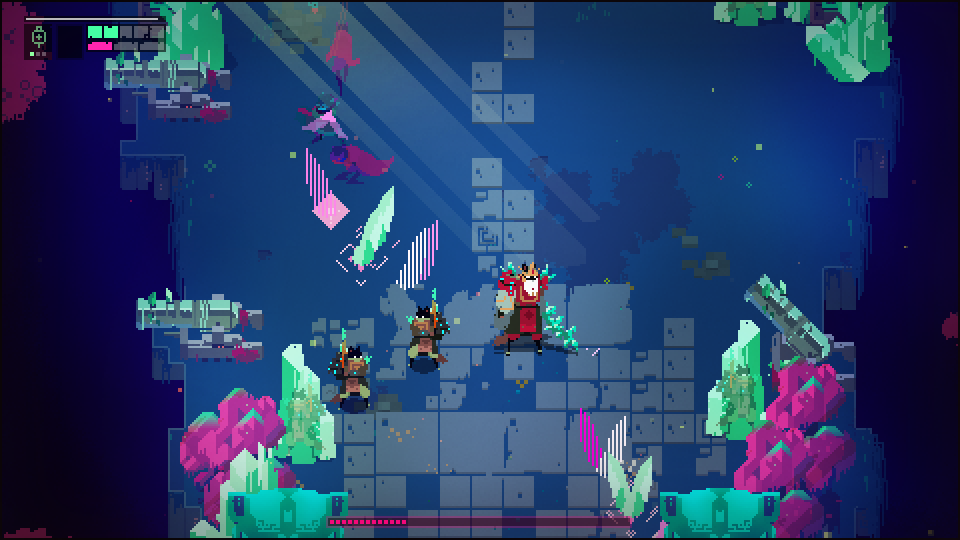hanged_crys: (598, 447, 658, 529), (350, 181, 394, 281), (299, 147, 349, 230), (395, 211, 439, 295), (574, 405, 605, 472)
hanged_man: (488, 262, 579, 357)
